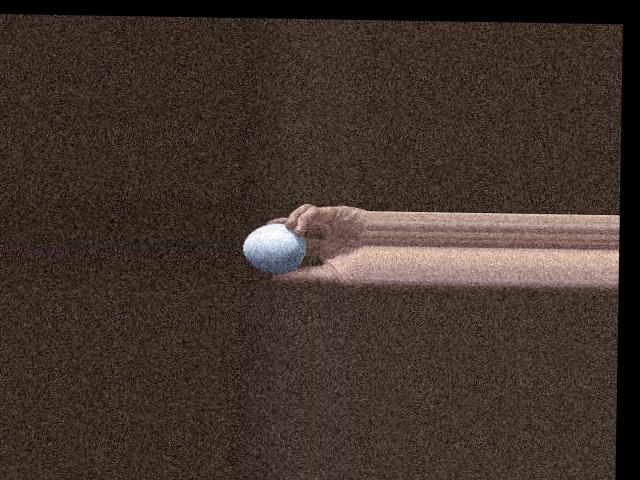egg: (241, 221, 305, 272)
